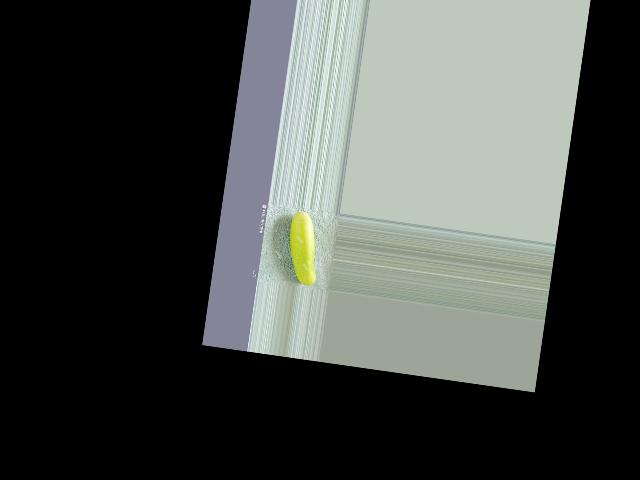cucumber: (282, 210, 324, 287)
